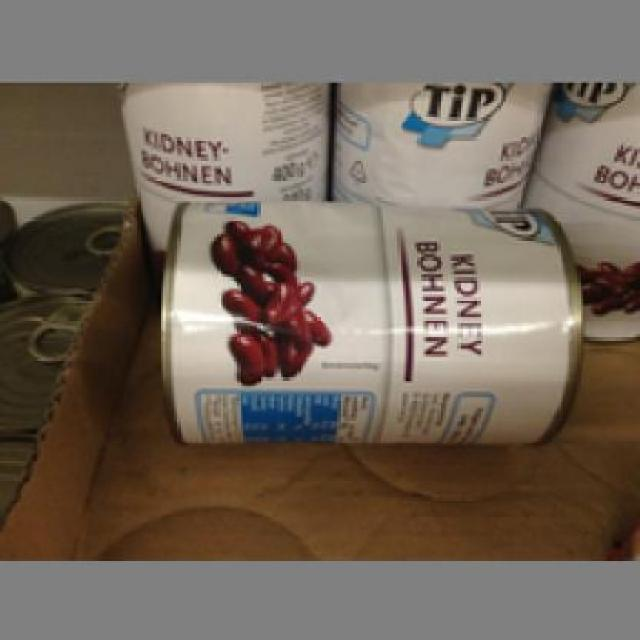Beans: (153, 192, 590, 452), (116, 80, 332, 240), (343, 77, 548, 226)
